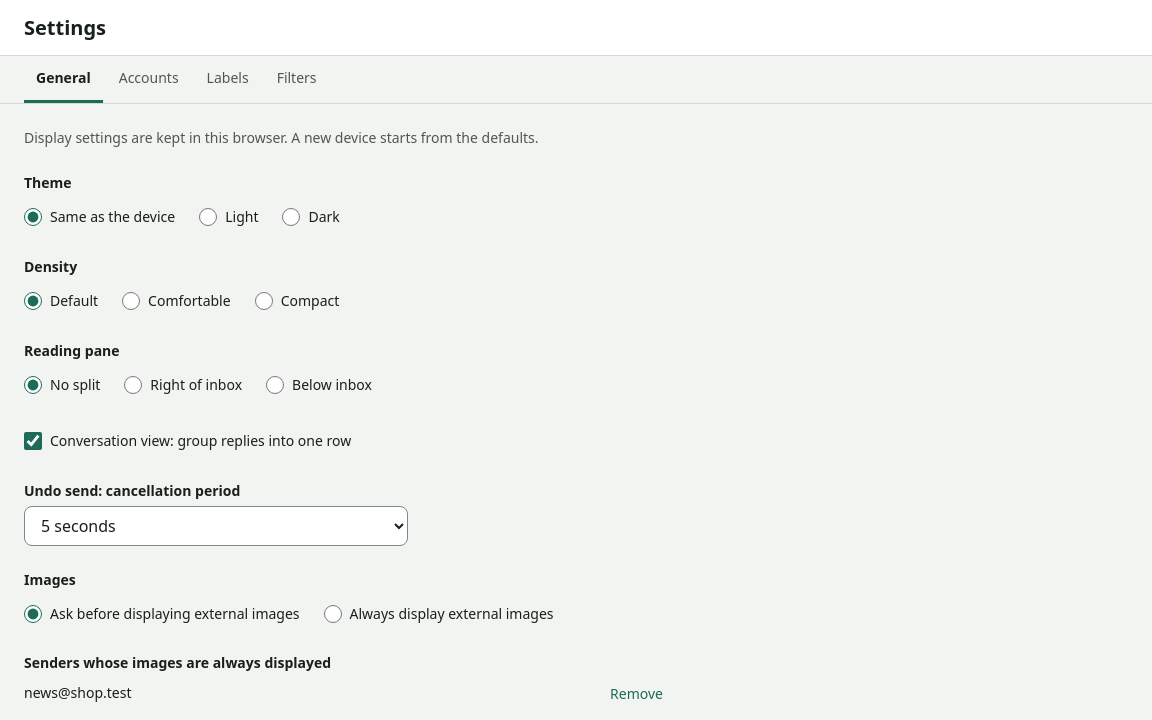
Test: General › lists allowed senders and removes one
Expected: the text "news@shop.test" is shown, [24, 683, 132, 704]
Click the button with aria-label "Remove news@shop.test" at (637, 694), box [593, 676, 680, 712]
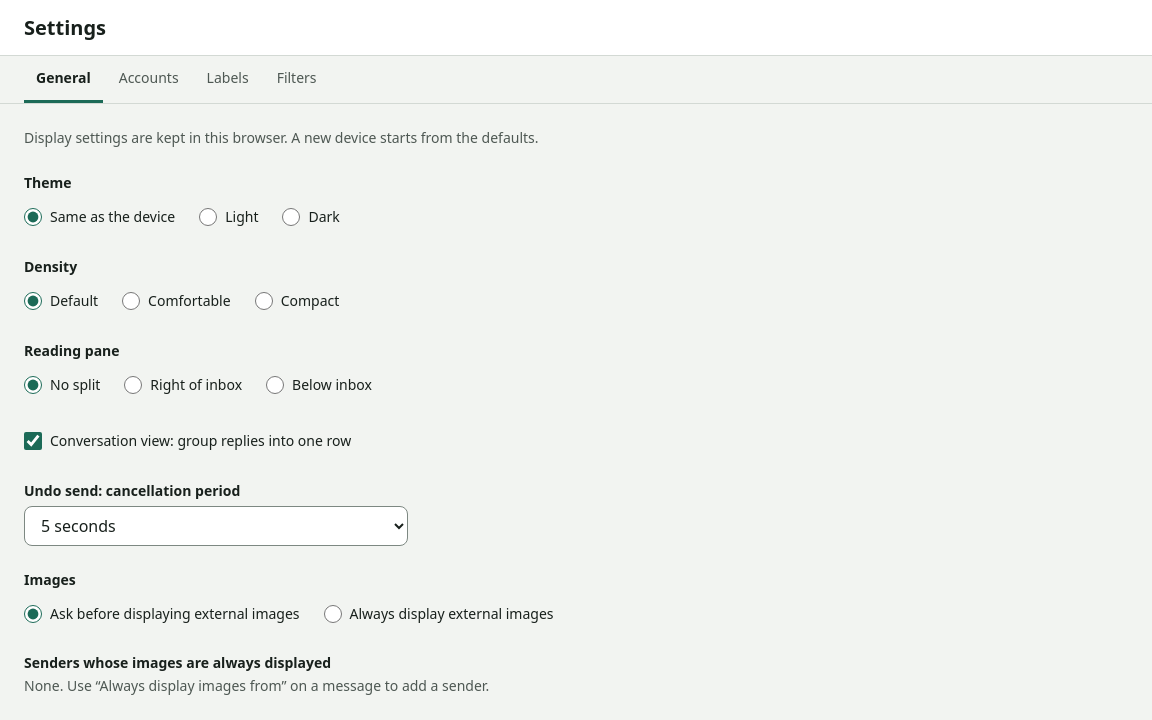
Expected: the text "news@shop.test" is gone
